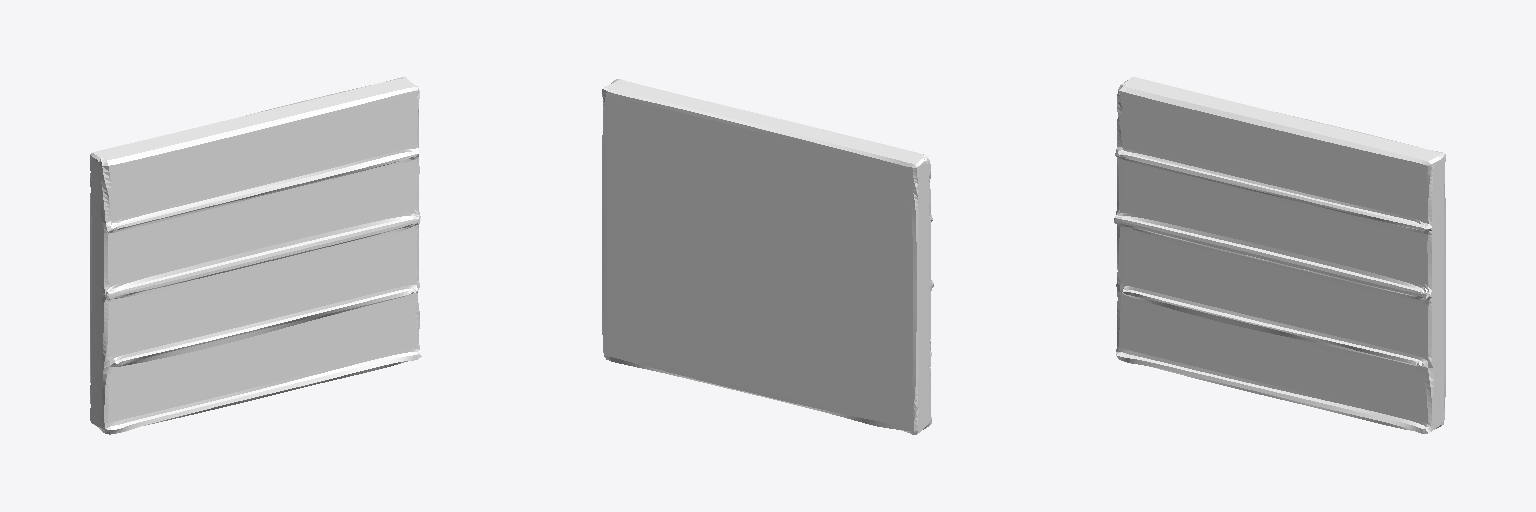
The model's file is Truck_door.Obj.
3 views of the same model, side by side, from view 1: azimuth 30°, elevation 25°; view 2: azimuth 150°, elevation 25°; view 3: azimuth 330°, elevation 25° (orthographic).
Visible parts, largest first — view 1: Truck_Door; view 2: Truck_Door; view 3: Truck_Door.
Boxes of the visible parts, x1,y1,x2,y2 form: Truck_Door: [90, 77, 421, 434]; Truck_Door: [602, 79, 933, 434]; Truck_Door: [1114, 77, 1445, 433].
Size of the model in its own units: 298 by 245 by 30.09.